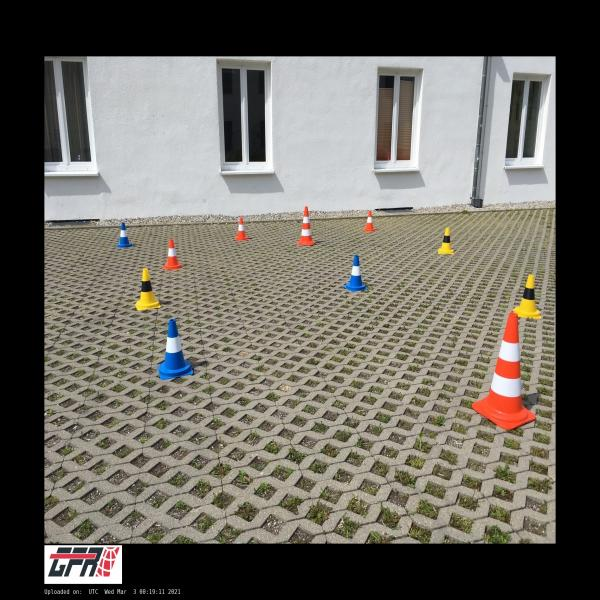blue_cone: (158, 319, 194, 380), (344, 255, 368, 291), (118, 222, 132, 248)
large_orange_cone: (472, 313, 536, 430), (298, 207, 316, 245)
orange_cone: (162, 239, 184, 270), (235, 218, 249, 240), (364, 211, 375, 232)
yellow_cone: (513, 275, 541, 319), (135, 268, 161, 310), (438, 228, 455, 254)
